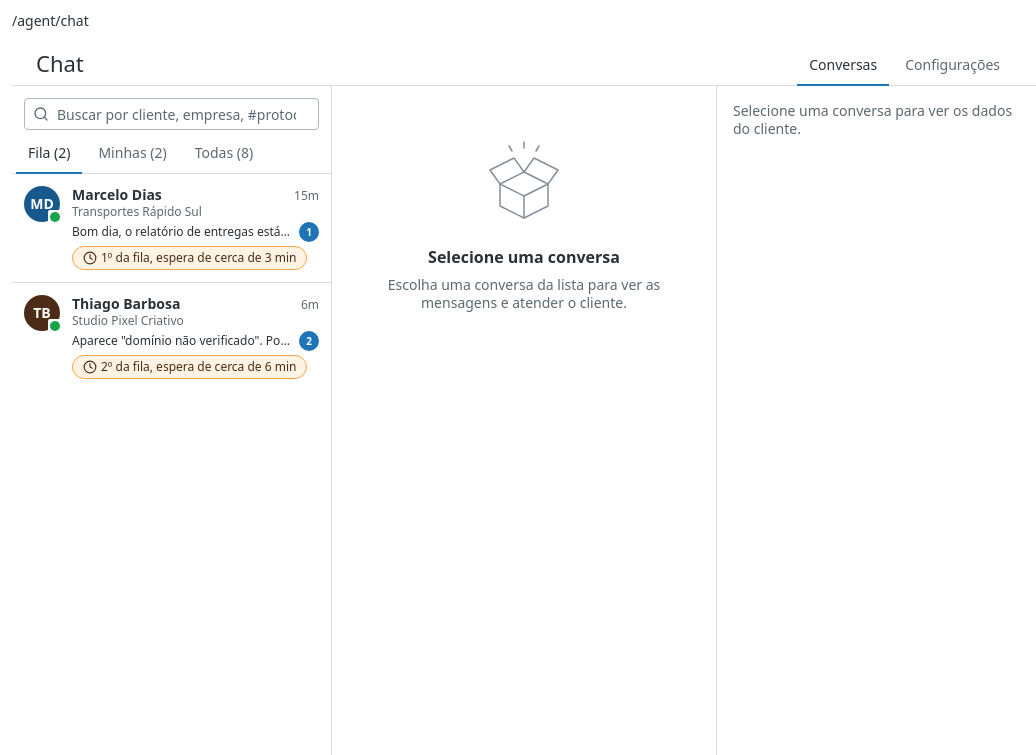
conversa › abrir uma conversa da lista navega e mostra autor, hora, anexo, nota e confirmação de leitura
Click the tab "Minhas (2)": (133, 154) [86,134,179,174]
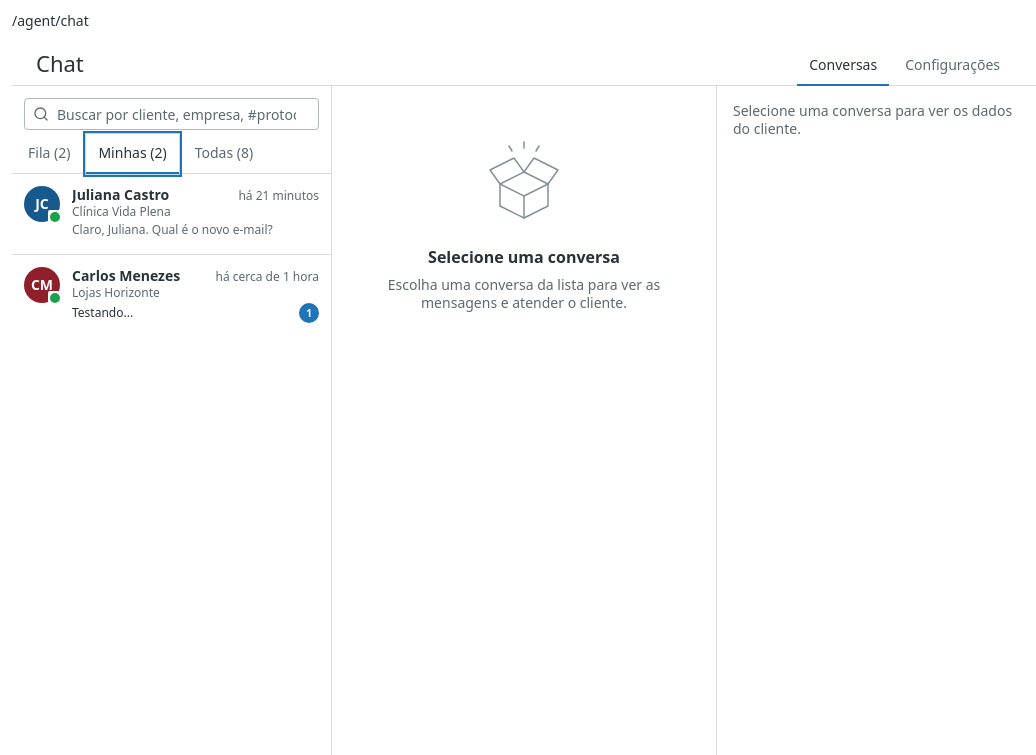
Click the button "Carlos Menezes": (42, 285) [12,255,331,339]
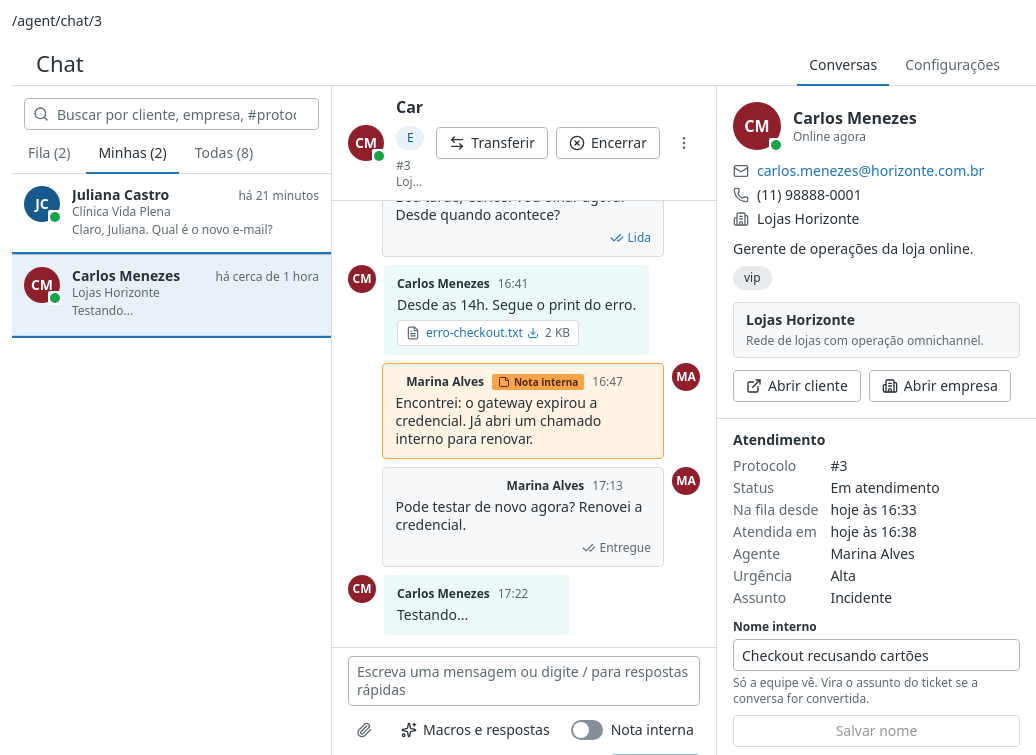
Expected: the text with test id "where" reads "/agent/chat/3", [12,11,102,30]
Expected: the link "erro-checkout.txt" is shown, [426,325,539,341]
Expected: the list item with test id "chat-message" shows "Nota interna", [514,375,578,389]
